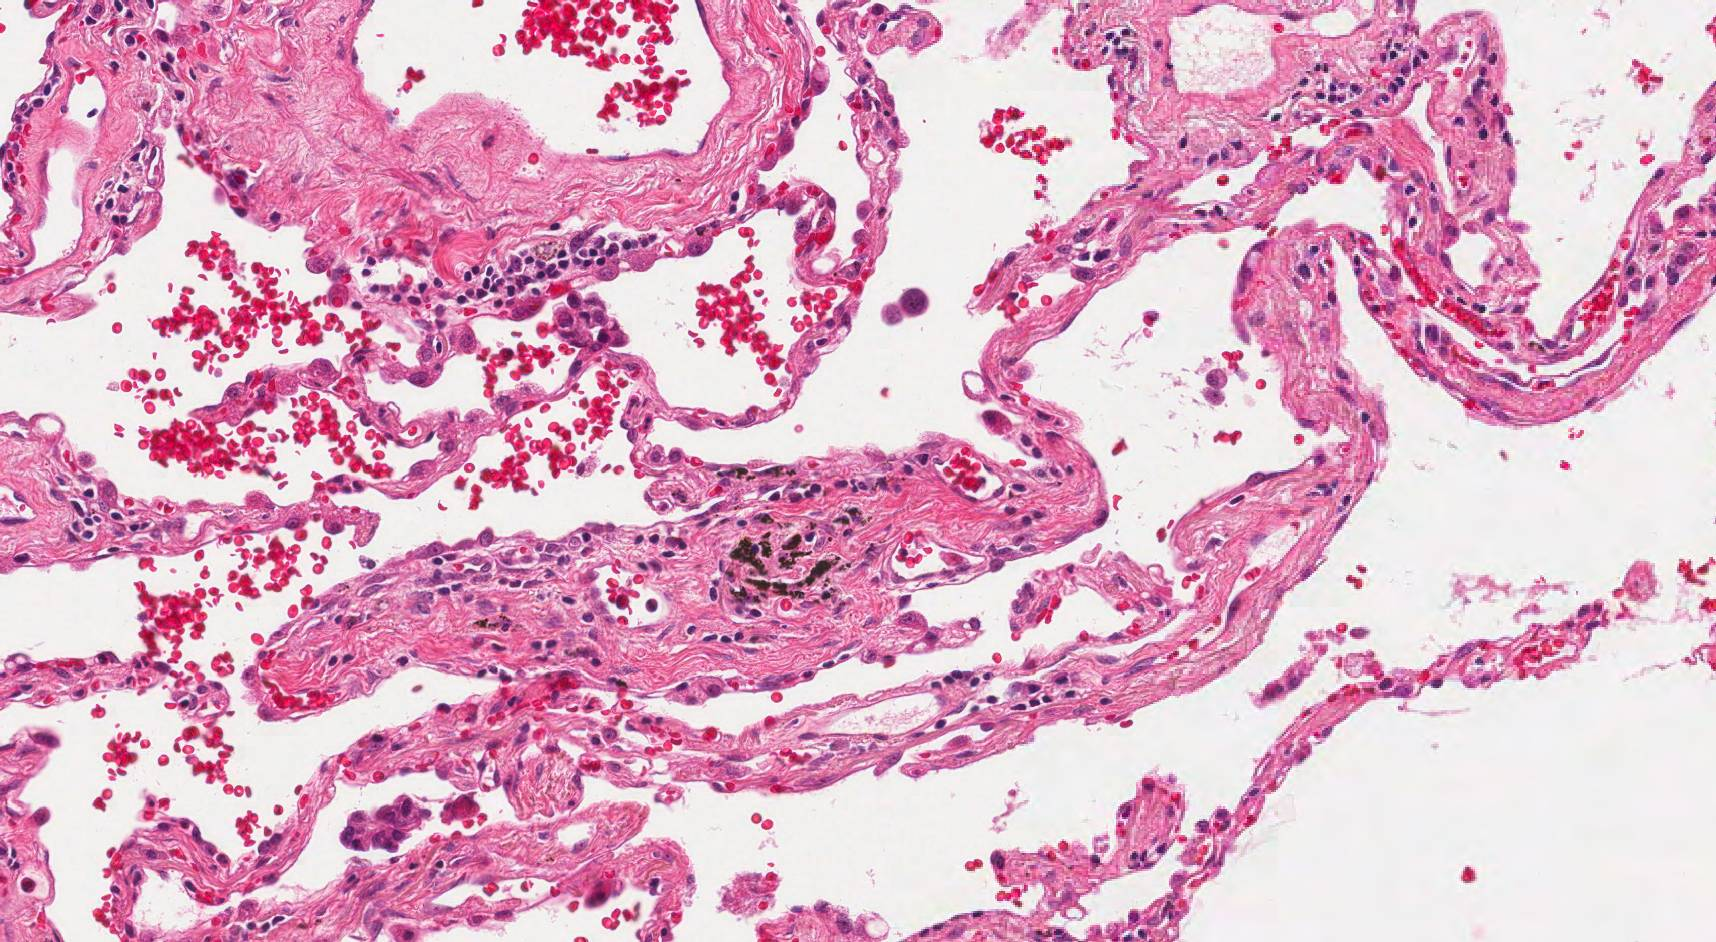stas: (339, 795, 433, 852), (553, 290, 630, 352)
